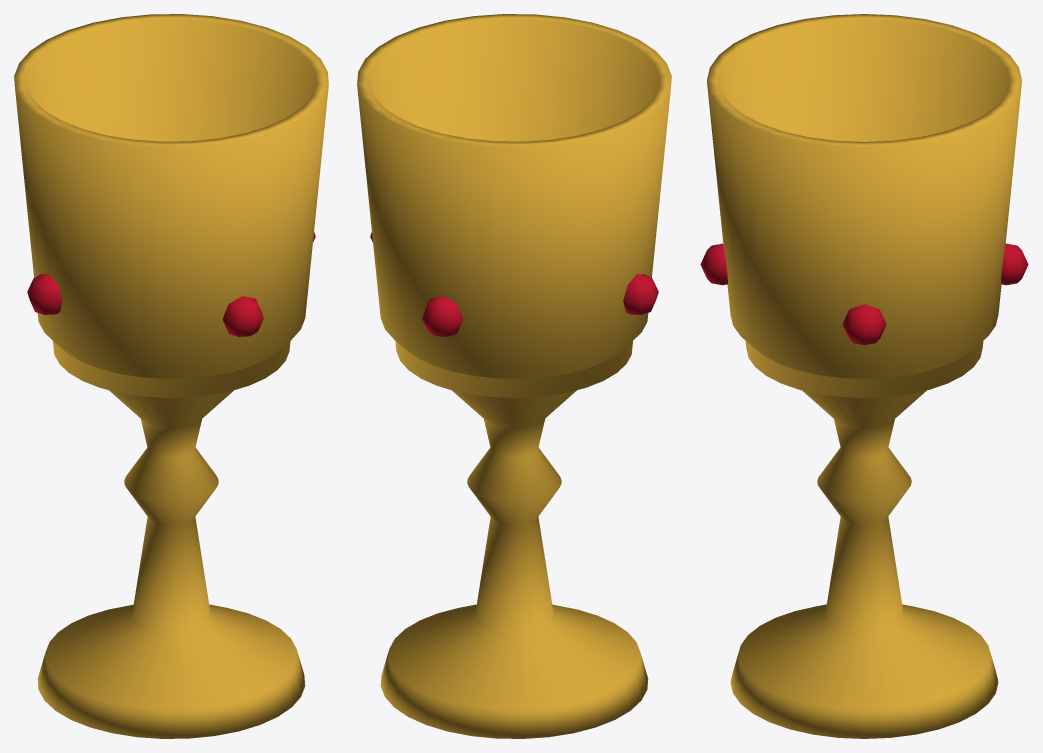
File: goblet.glb
3 renders of one model, left to right at view 1: azimuth 30°, elevation 25°; view 2: azimuth 150°, elevation 25°; view 3: azimuth 270°, elevation 25°, orthographic.
Parts seen in each view (by area): view 1: goblet; view 2: goblet; view 3: goblet.
Part boxes in pixels (x1,y1,x2,y2): goblet: [14, 14, 328, 738]; goblet: [357, 14, 671, 738]; goblet: [700, 14, 1028, 738].
Size of the model in its own units: 0.089 by 0.18 by 0.089.
